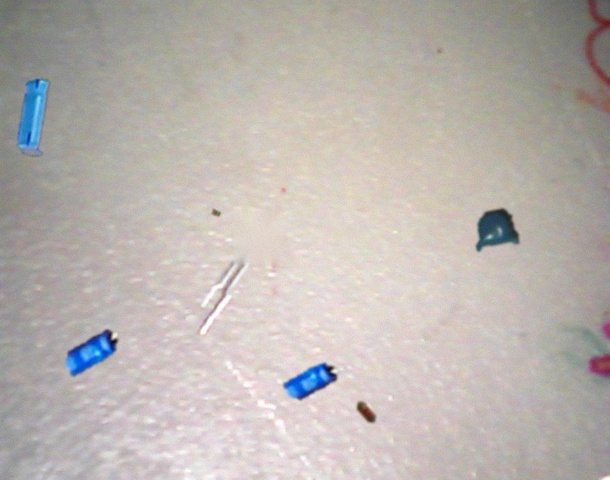capacitor: (17, 78, 50, 156), (66, 329, 118, 377), (283, 363, 339, 401), (476, 208, 519, 252)
resistor: (357, 401, 376, 423), (212, 208, 221, 217)
